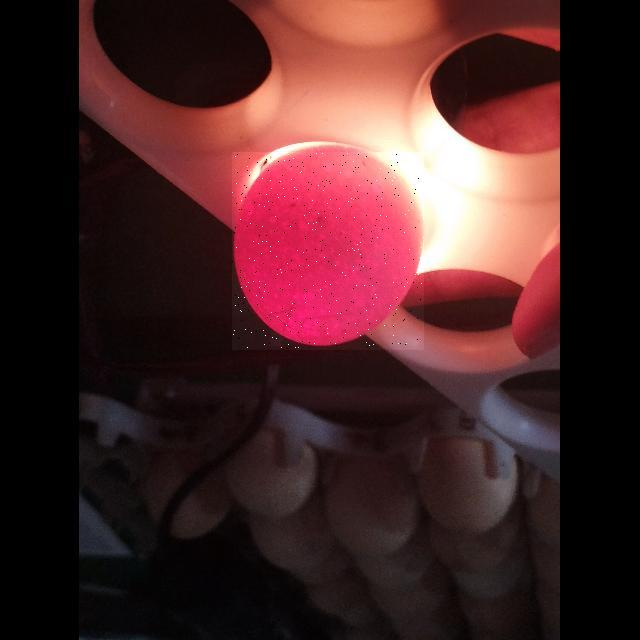Fertile: (232, 152, 424, 350)
